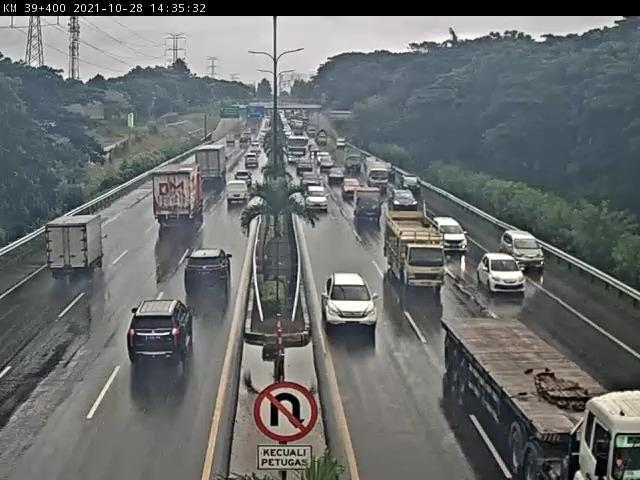car: (128, 302, 194, 366), (325, 274, 378, 332), (186, 251, 232, 295), (480, 255, 527, 291), (501, 230, 542, 268), (432, 219, 464, 249), (357, 190, 382, 218), (306, 187, 330, 211), (223, 184, 248, 207), (396, 174, 420, 196), (388, 190, 414, 209), (342, 176, 360, 198), (233, 174, 254, 190), (245, 156, 262, 171), (297, 161, 313, 174), (303, 173, 319, 186), (323, 159, 336, 173), (329, 168, 342, 182), (318, 150, 329, 161)
truck: (441, 320, 640, 480), (388, 214, 447, 288), (49, 216, 106, 276), (152, 166, 207, 228), (194, 147, 229, 188), (367, 162, 391, 188), (286, 136, 308, 163), (344, 150, 363, 172)
